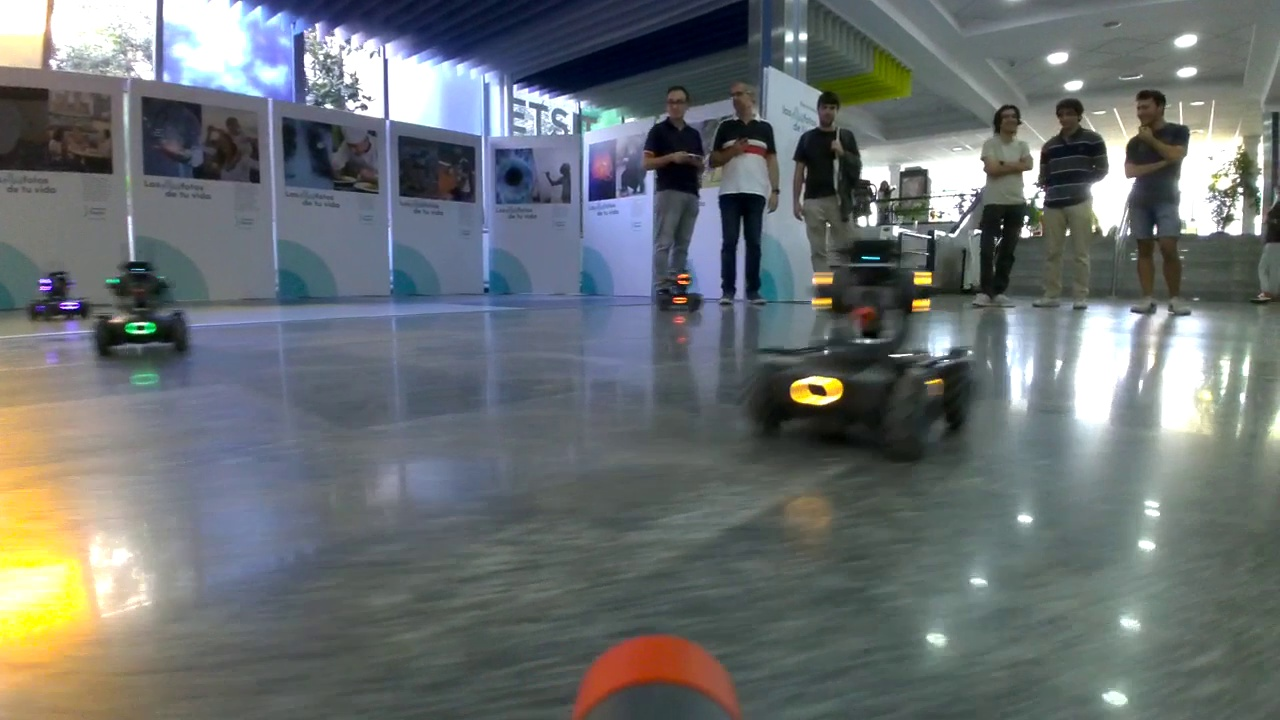robot: (742, 240, 981, 463), (93, 244, 188, 360), (27, 270, 86, 321), (653, 264, 706, 311)
